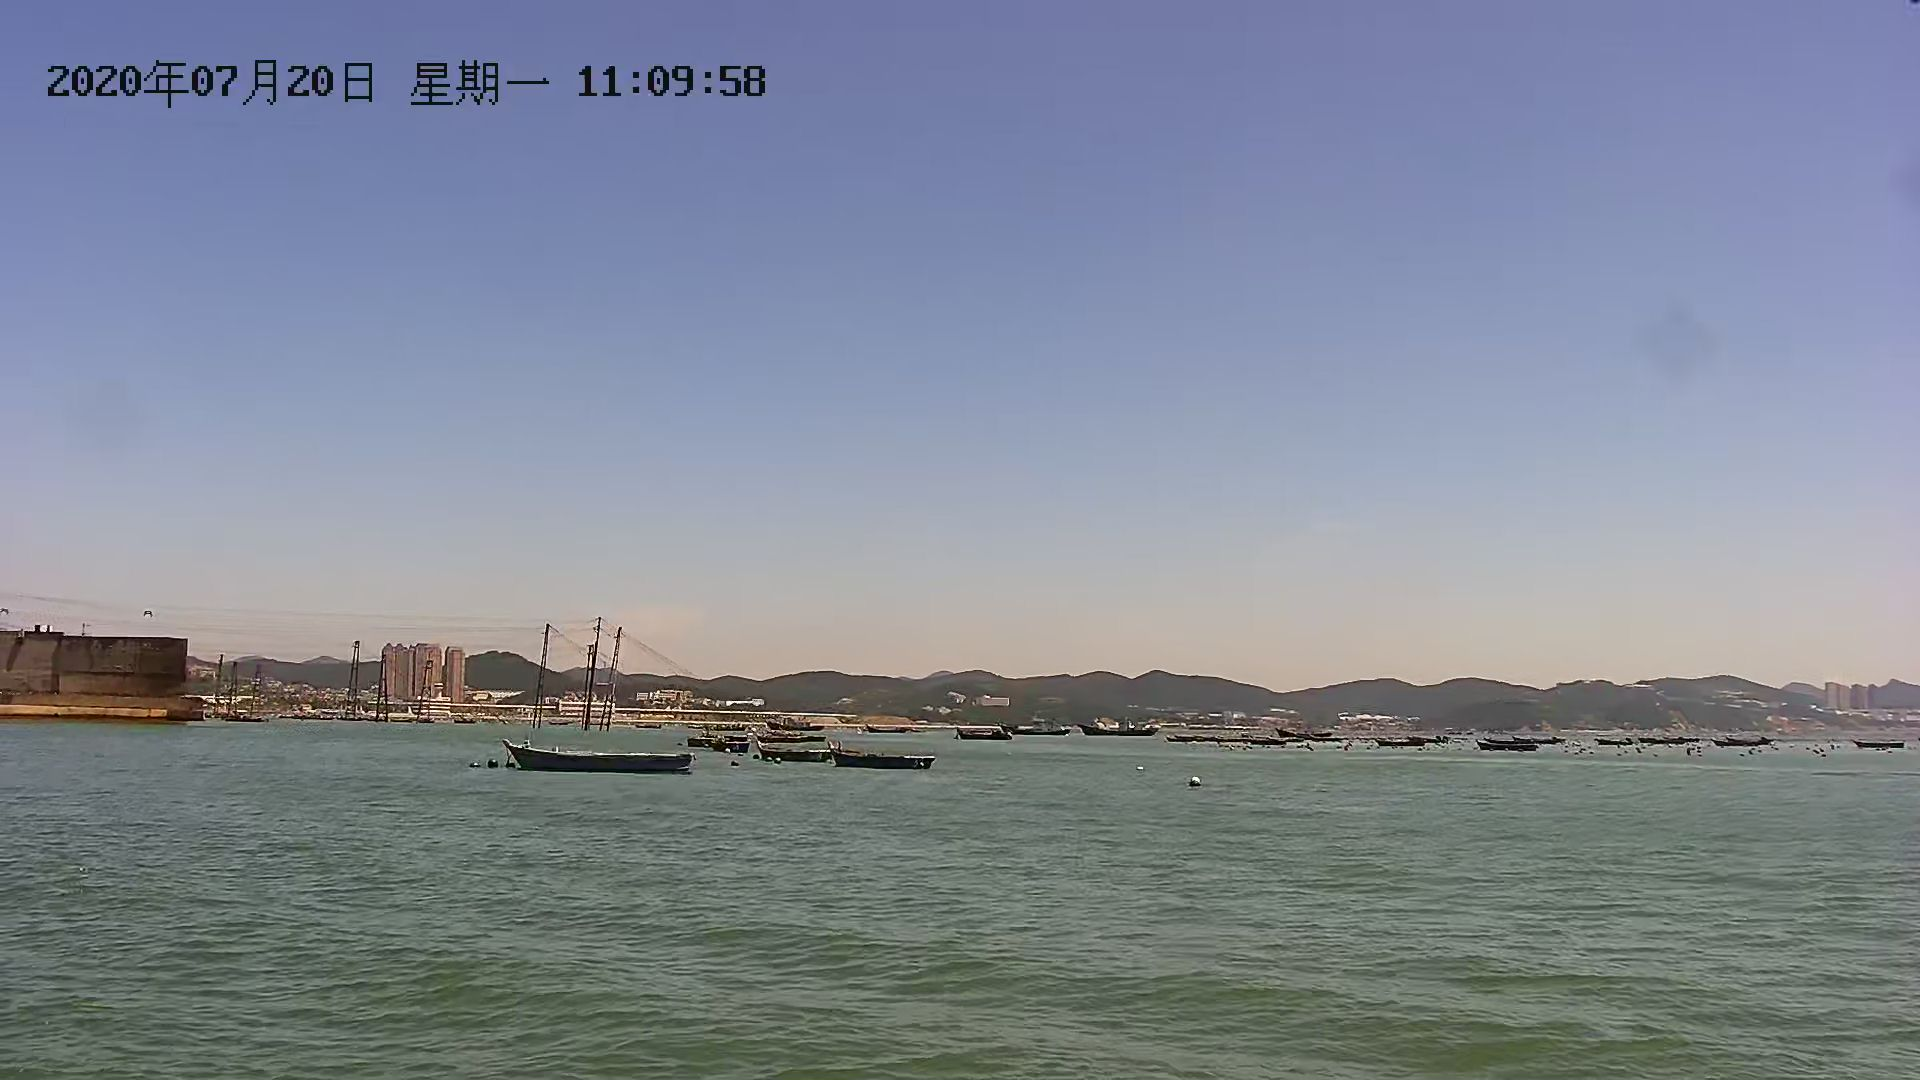ball: (1185, 771, 1208, 794)
boat: (500, 724, 695, 779), (828, 738, 945, 778), (756, 741, 852, 767), (1469, 732, 1545, 760)
